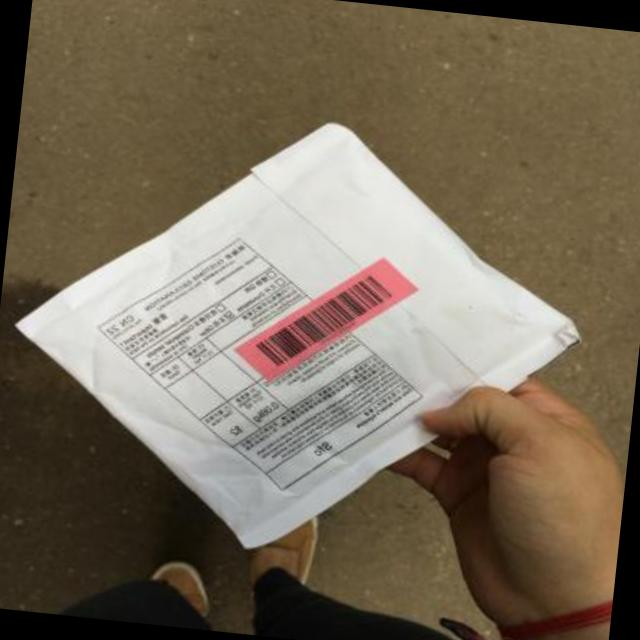mailer: (19, 123, 579, 546)
